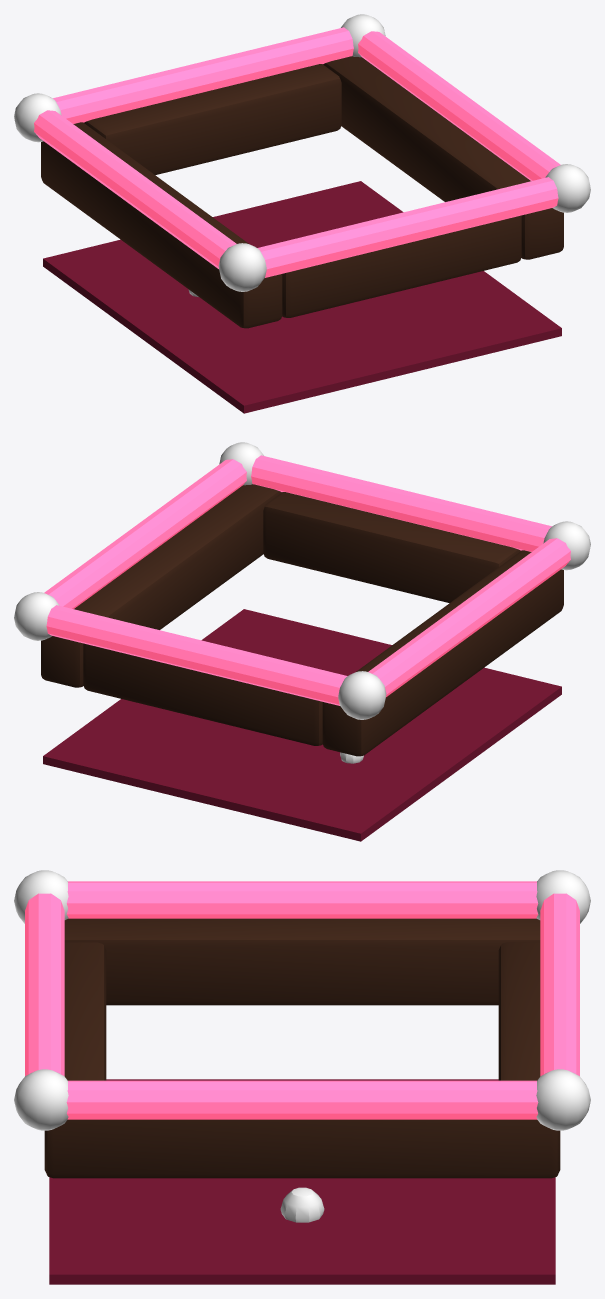
Rendered from hole_tile.glb.
The picture shows the model from 3 angles, top to bottom: view 1: azimuth 30°, elevation 25°; view 2: azimuth 150°, elevation 25°; view 3: azimuth 270°, elevation 25°; orthographic projection. The views are drawn at different scales.
Visible parts, largest first — view 1: Syrup, FrameEnd.001, FrameSide.001, FrameSide, FrameEnd, Rim, Rim.001, Rim.002, Rim.003, Joint, Joint.002, Joint.001 (+1 smaller); view 2: Syrup, FrameEnd, FrameSide.001, FrameSide, FrameEnd.001, Rim.001, Rim, Rim.002, Rim.003, Joint.001, Joint.003, Joint (+1 smaller); view 3: Syrup, FrameSide, FrameSide.001, Rim.003, Rim.002, Rim, Rim.001, FrameEnd, FrameEnd.001, Joint.002, Joint.003, Joint (+2 smaller).
Boxes of the visible parts, bbox=[...] form: Syrup: bbox=[43, 181, 561, 413]; FrameEnd.001: bbox=[84, 64, 341, 174]; FrameSide.001: bbox=[323, 56, 563, 259]; FrameSide: bbox=[41, 122, 282, 328]; FrameEnd: bbox=[282, 215, 521, 317]; Rim: bbox=[257, 177, 558, 277]; Rim.001: bbox=[53, 27, 353, 123]; Rim.002: bbox=[34, 110, 236, 268]; Rim.003: bbox=[358, 31, 560, 180]; Joint: bbox=[218, 243, 266, 291]; Joint.002: bbox=[545, 164, 590, 212]; Joint.001: bbox=[14, 93, 61, 142]; Syrup: bbox=[43, 609, 561, 841]; FrameEnd: bbox=[263, 492, 520, 602]; FrameSide.001: bbox=[41, 484, 281, 687]; FrameSide: bbox=[322, 550, 563, 756]; FrameEnd.001: bbox=[83, 643, 322, 745]; Rim.001: bbox=[46, 605, 347, 705]; Rim: bbox=[251, 455, 551, 551]; Rim.002: bbox=[368, 538, 570, 696]; Rim.003: bbox=[44, 459, 246, 608]; Joint.001: bbox=[338, 671, 386, 719]; Joint.003: bbox=[14, 592, 59, 640]; Joint: bbox=[543, 521, 590, 570]; Syrup: bbox=[49, 1079, 555, 1284]; FrameSide: bbox=[64, 918, 540, 1005]; FrameSide.001: bbox=[44, 1119, 560, 1178]; Rim.003: bbox=[66, 1080, 538, 1119]; Rim.002: bbox=[66, 881, 538, 918]; Rim: bbox=[25, 893, 64, 1075]; Rim.001: bbox=[540, 893, 579, 1075]; FrameEnd: bbox=[64, 942, 106, 1080]; FrameEnd.001: bbox=[498, 942, 540, 1080]; Joint.002: bbox=[14, 1069, 68, 1130]; Joint.003: bbox=[536, 1069, 590, 1130]; Joint: bbox=[14, 870, 68, 923].
Size of the model in its own units: 2.41 by 1.1 by 2.62.
